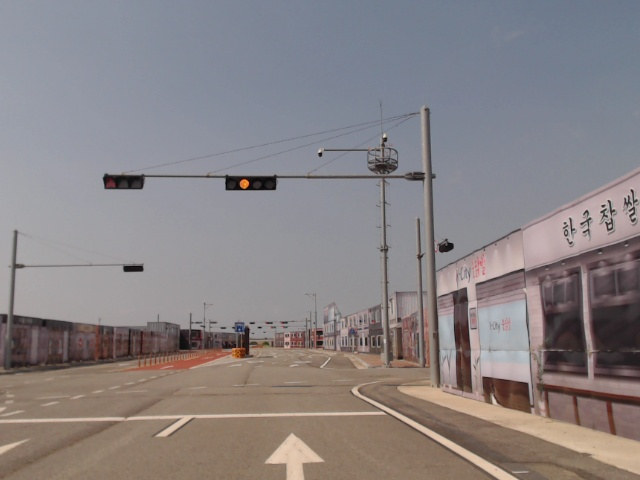orange_4: (227, 175, 277, 192)
